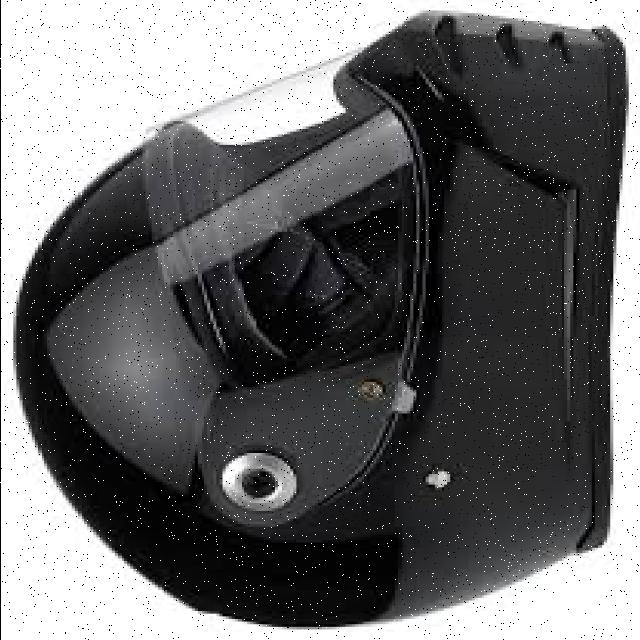Helmet: (16, 13, 624, 625)
